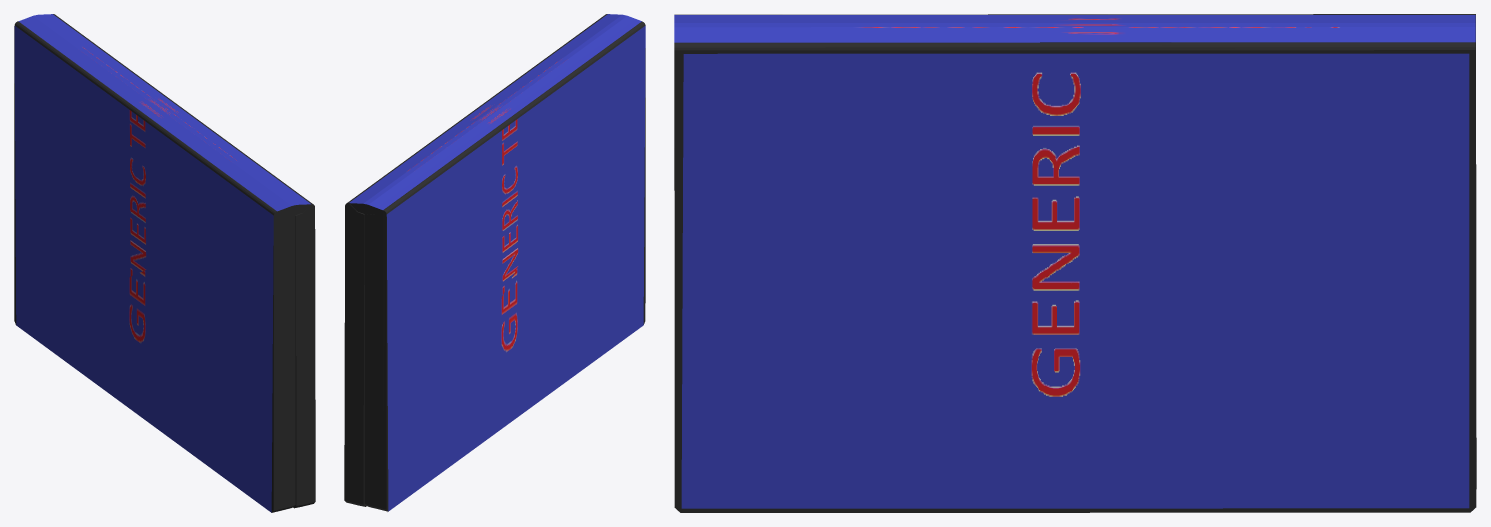
File: GenericDVD.gltf
The picture shows the model from 3 angles, left to right: view 1: azimuth 30°, elevation 25°; view 2: azimuth 150°, elevation 25°; view 3: azimuth 270°, elevation 25°; orthographic projection. The views are drawn at different scales.
Parts seen in each view (by area): view 1: back_side_outer_face, back_side, connector_outer_face, front_side; view 2: back_side_outer_face, back_side, connector_outer_face, front_side; view 3: front_side.001, connector_outer_face, front_side, back_side.
Boxes of the visible parts, left/top/right/bottom form: back_side_outer_face: left=14, top=26, right=273, bottom=512; back_side: left=14, top=21, right=295, bottom=512; connector_outer_face: left=18, top=14, right=310, bottom=211; front_side: left=53, top=14, right=315, bottom=508; back_side_outer_face: left=386, top=25, right=645, bottom=511; back_side: left=364, top=21, right=645, bottom=511; connector_outer_face: left=349, top=14, right=641, bottom=209; front_side: left=344, top=14, right=607, bottom=506; front_side.001: left=681, top=53, right=1469, bottom=508; connector_outer_face: left=674, top=15, right=1475, bottom=42; front_side: left=674, top=42, right=1476, bottom=512; back_side: left=674, top=14, right=1476, bottom=488.
Bounding box in the file's own units: 1.99 × 13.66 × 21.02.
2 materials, 1 textured.
